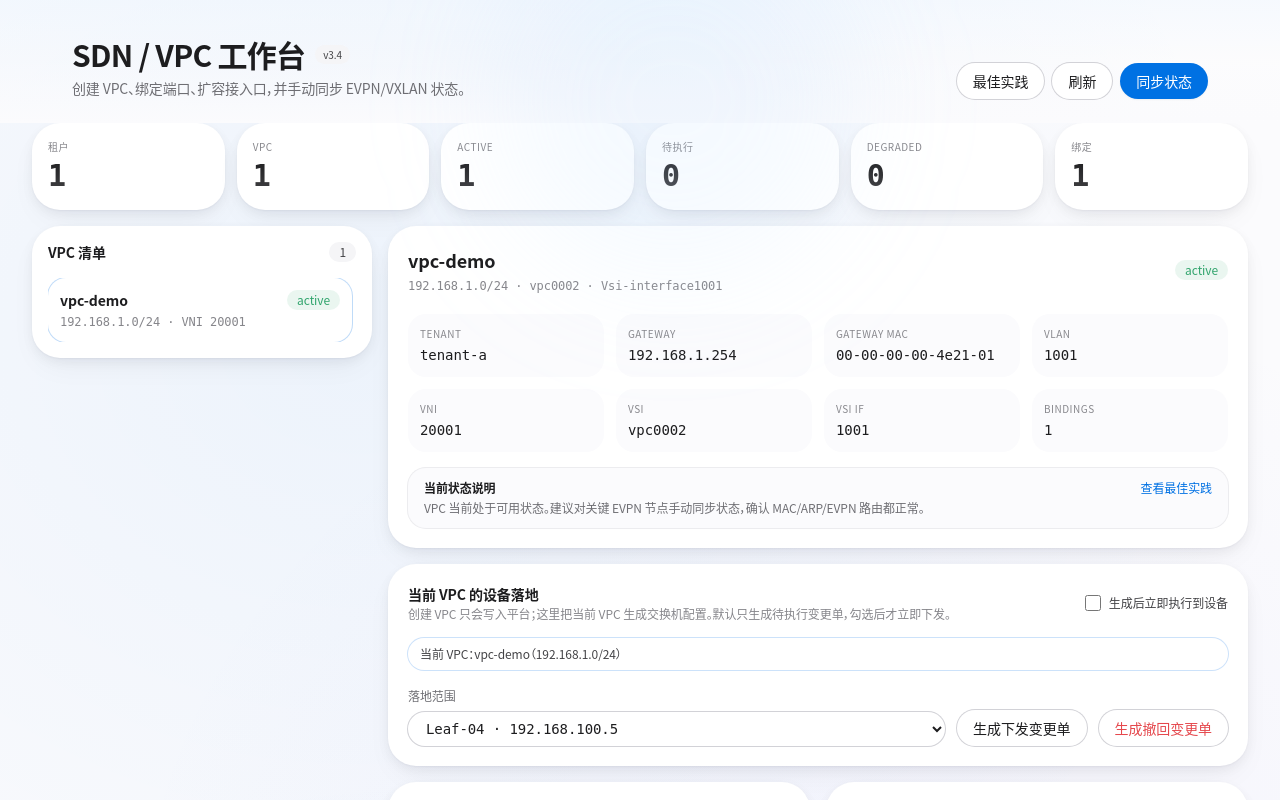
Test case: SdnVpcWorkspace.vue › opens best-practice guide
Click the button "最佳实践" at (1001, 80), box [957,62,1044,98]
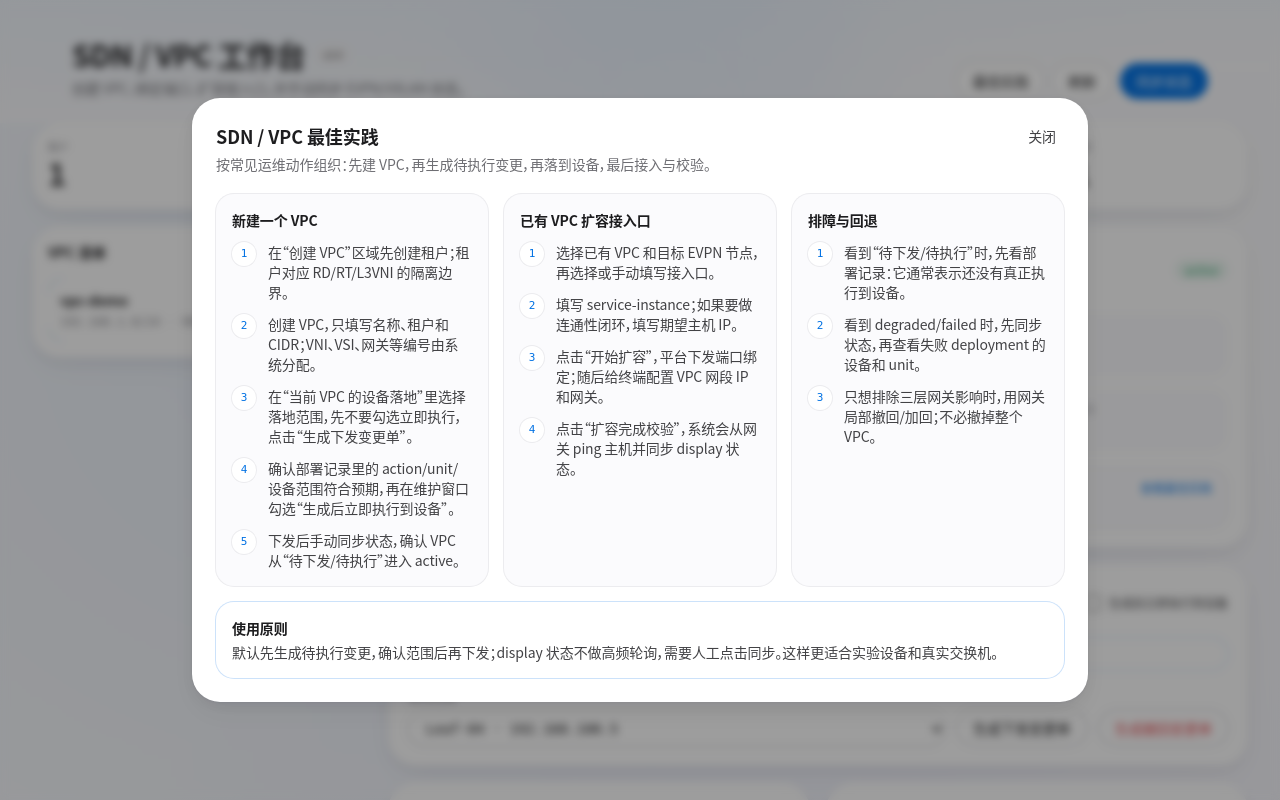
Result: the text "SDN / VPC 最佳实践" is shown at [216,123,379,149]
Result: the text "新建一个 VPC" is shown at [232,210,318,230]
Result: the text "已有 VPC 扩容接入口" is shown at [520,210,651,230]
